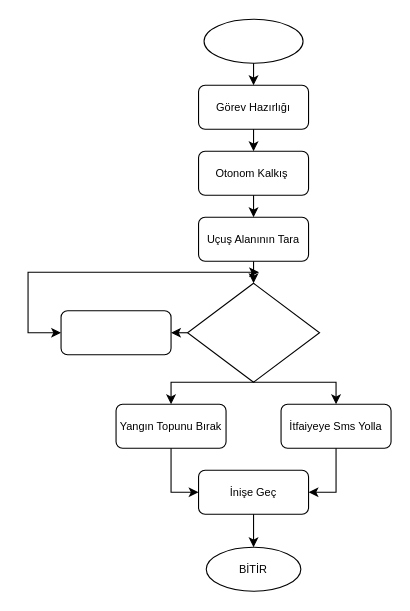
This 410x611 diagram has some shape labels left out. The shapes that lost their labels are listed below. From the top down, each one's centre as x and y in pixels, then its label:
(x=253, y=40): BAŞLA
(x=115, y=332): Taramaya Devam Et
(x=253, y=332): Yangın (Kırmızı alan) görüldü mü?
